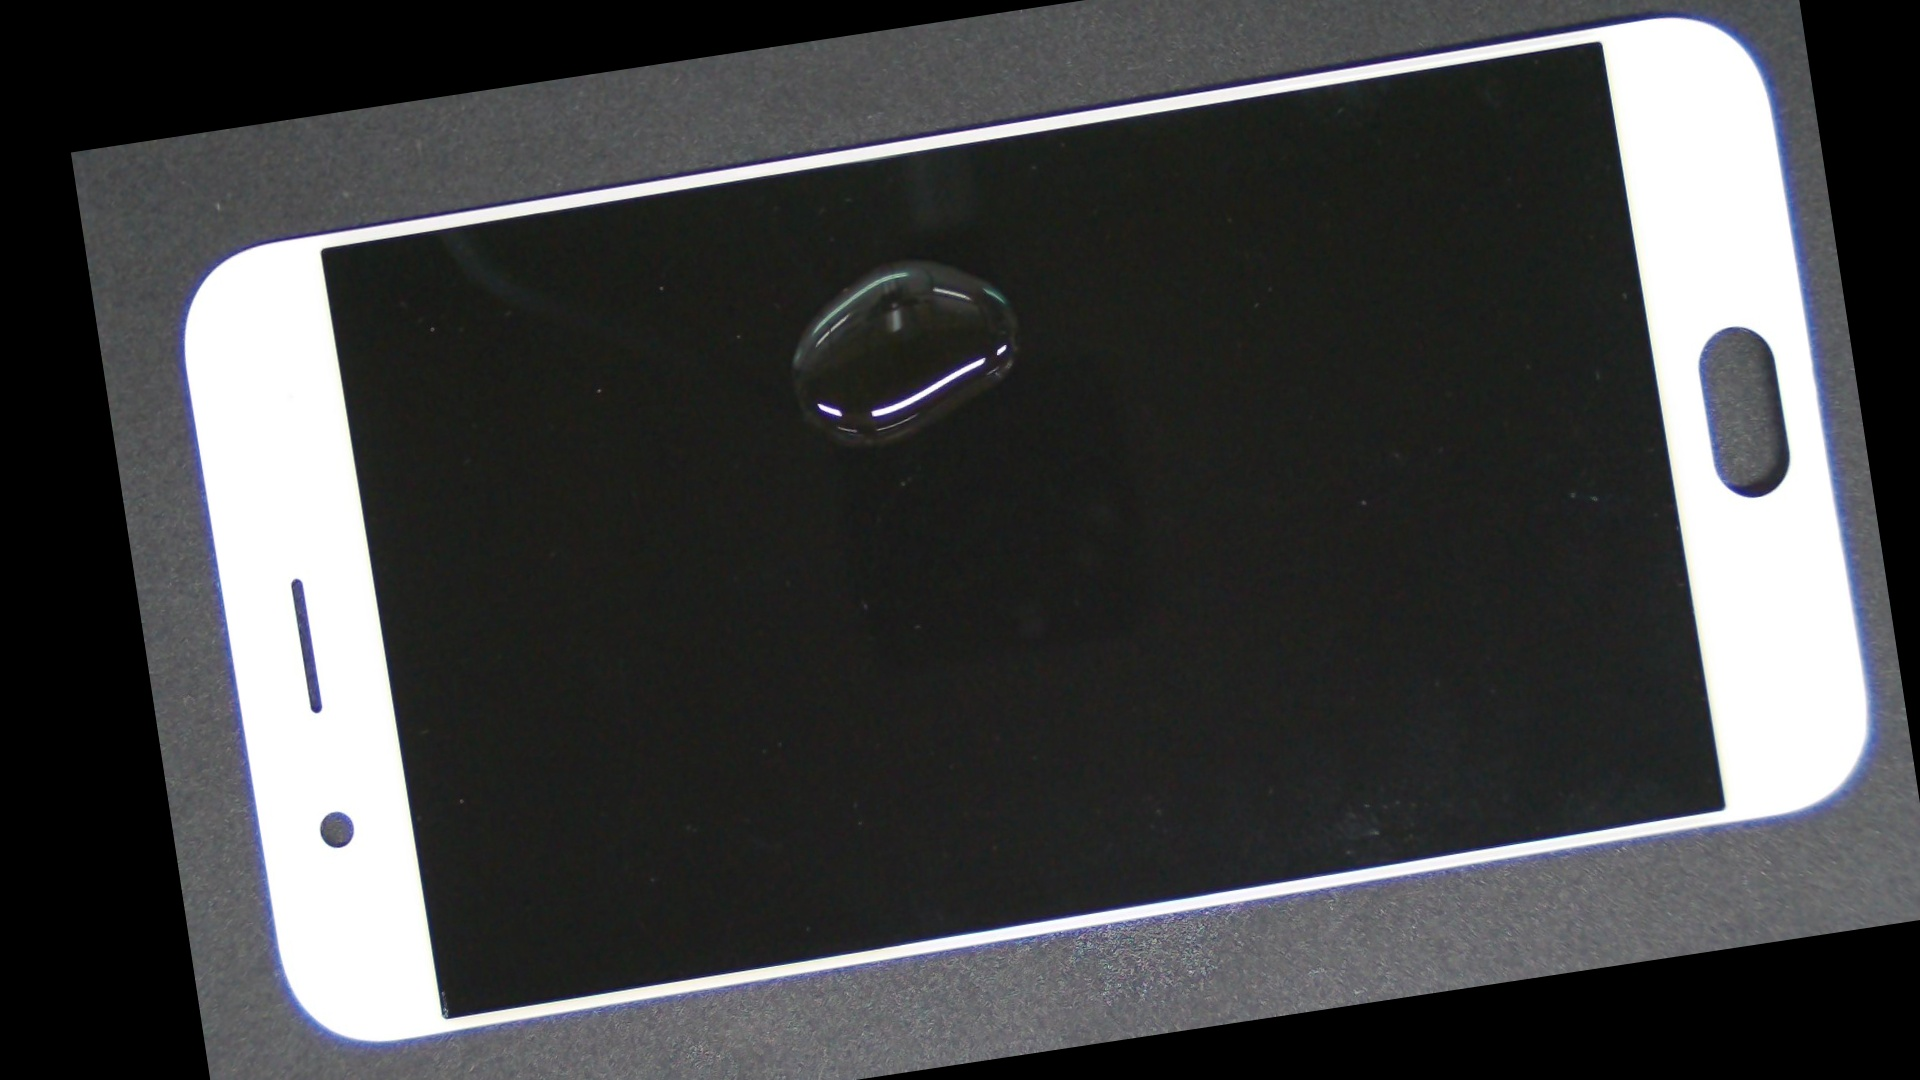oil: (483, 88, 1305, 434)
